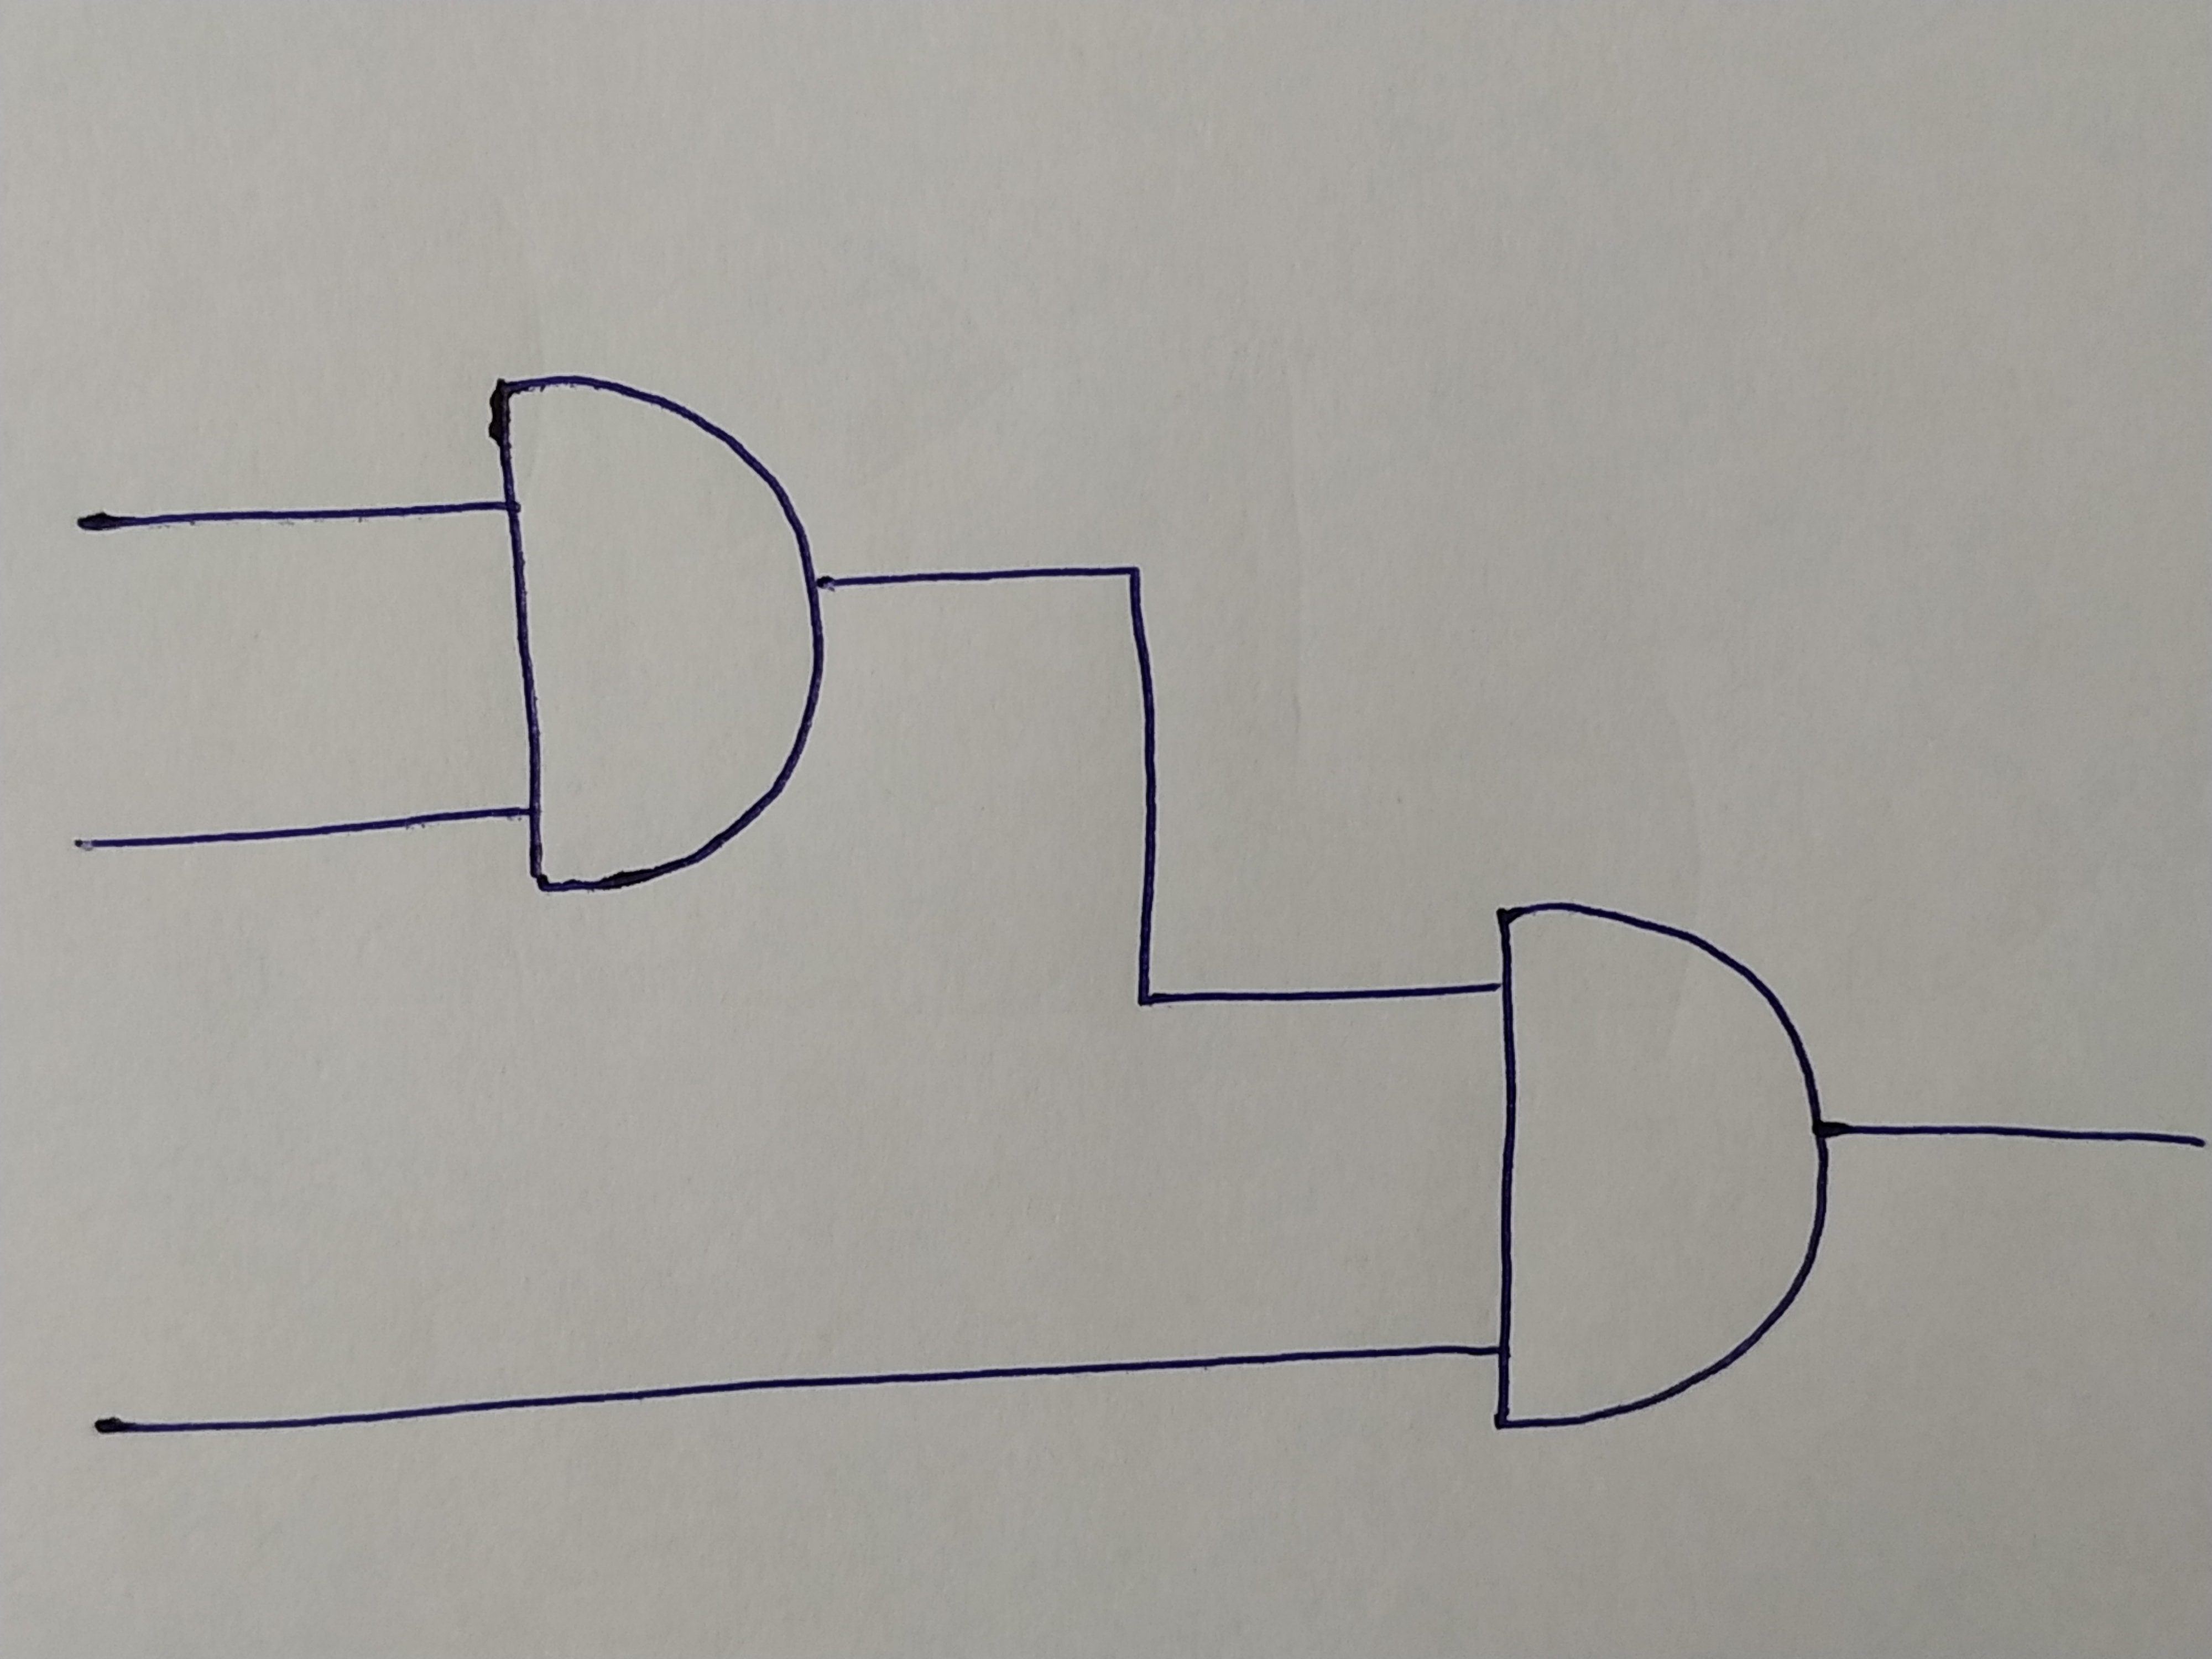and: (1486, 903, 1824, 1427), (493, 383, 817, 885)
